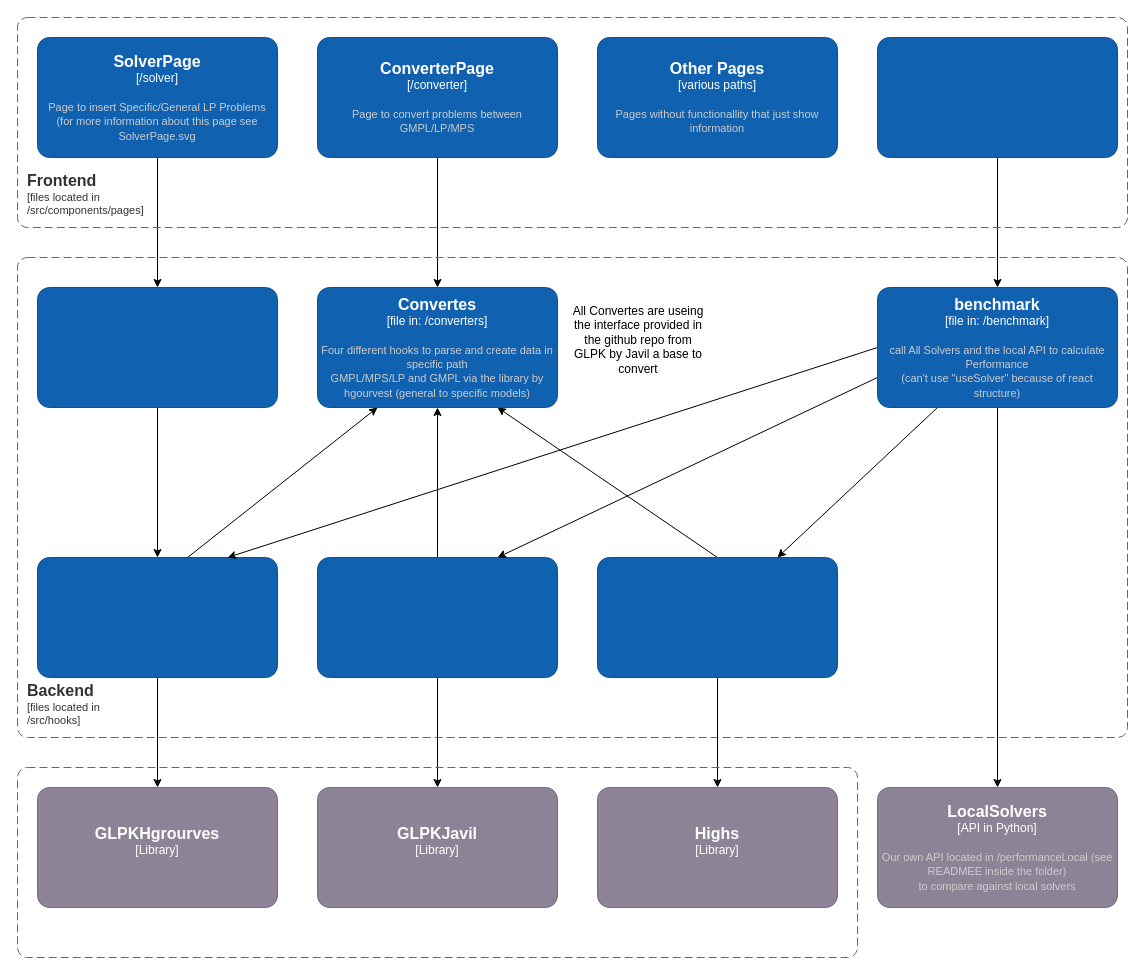
The diagram is 1145 pixels wide and 975 high, and some of its shapes have lost their labels. The box of each missing label's shape, as (x1, y1, x2, y2) in pixels:
BenchmarkPage [/benchmark] Side To benchmark Solvers: (876, 36, 1118, 158)
External []: (16, 766, 858, 958)
GLPKHgourvest [file in: /solvers]: (36, 556, 278, 678)
GLPKJavil [file in: /solvers]: (316, 556, 558, 678)
Highs [file in: /solvers]: (596, 556, 838, 678)
useSolver [file in: /solvers]: (36, 286, 278, 408)
